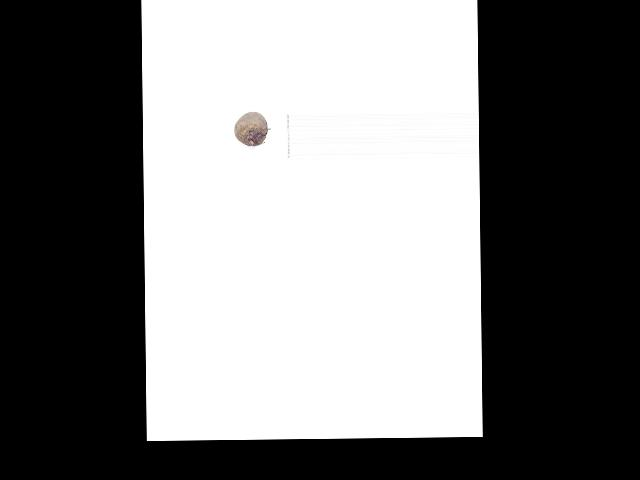beet: (234, 111, 267, 145)
